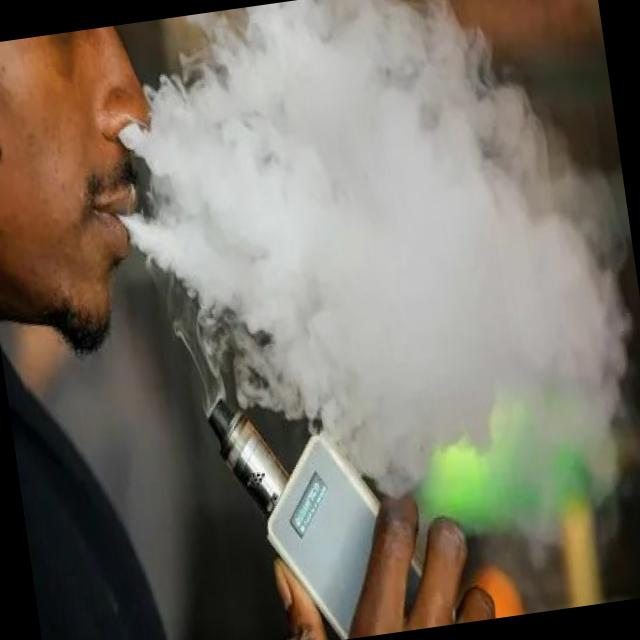smoke: (197, 369, 418, 640)
